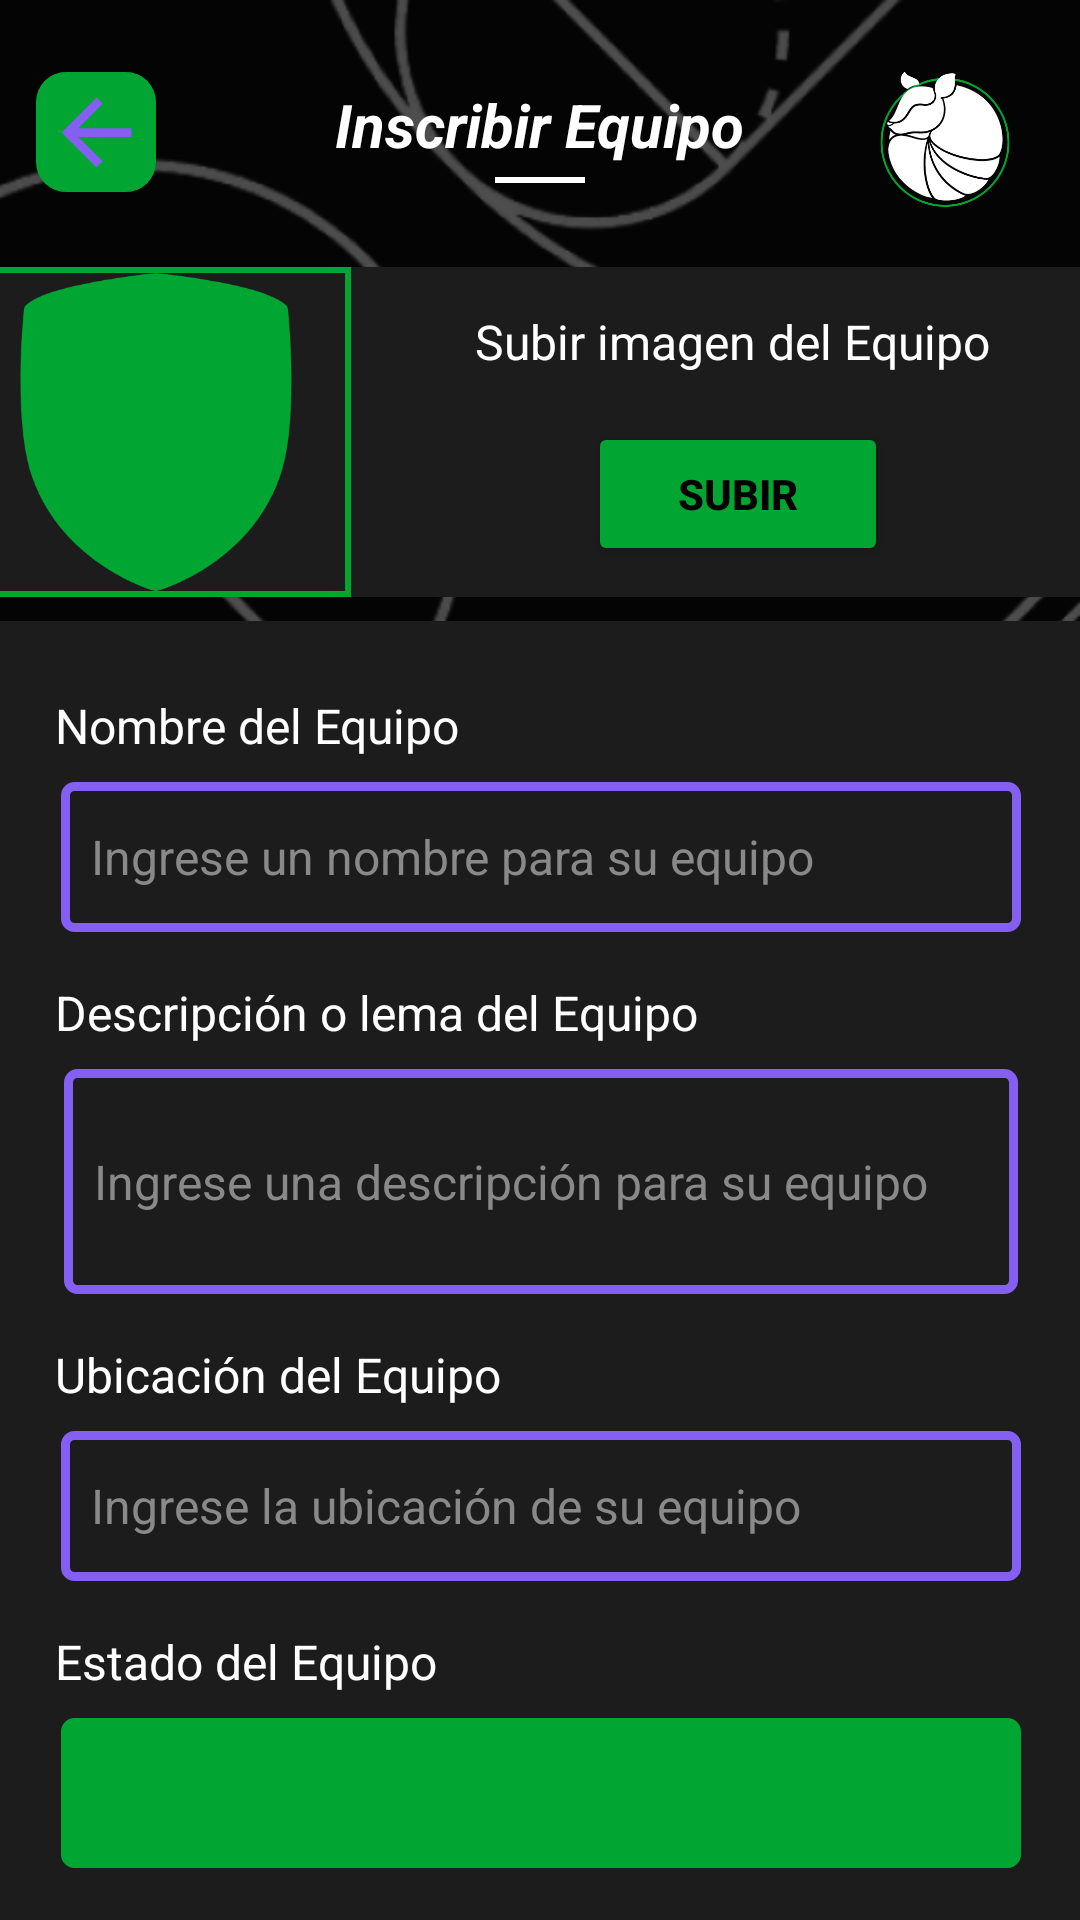

Icon click points for this 1080w x 1920h phone screenshot, format (x=x, y=y):
dillo: (x=945, y=139)
